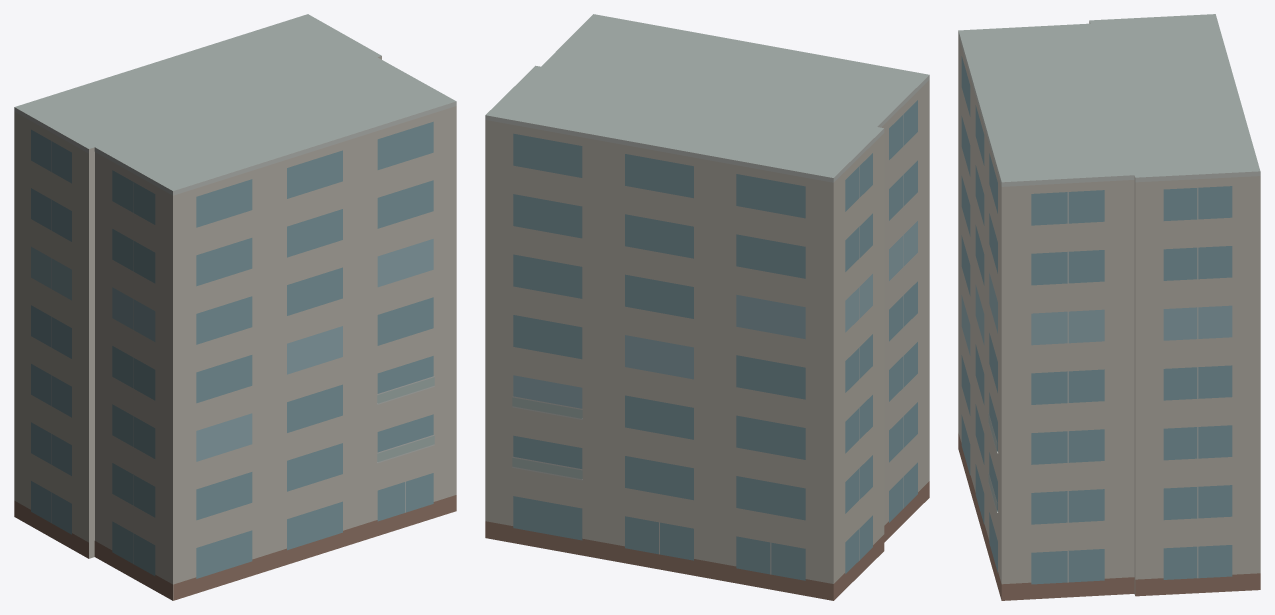
File: survey-upis-33015792.glb
3 renders of one model, left to right at view 1: azimuth 30°, elevation 25°; view 2: azimuth 150°, elevation 25°; view 3: azimuth 270°, elevation 25°, orthographic. The views are drawn at different scales.
Visible parts, largest first — view 1: survey-upis-33015792.tmp; view 2: survey-upis-33015792.tmp; view 3: survey-upis-33015792.tmp.
Boxes of the visible parts, x1,y1,x2,y2 form: survey-upis-33015792.tmp: [14, 14, 456, 600]; survey-upis-33015792.tmp: [485, 14, 929, 600]; survey-upis-33015792.tmp: [958, 14, 1260, 600].
Bounding box in the file's own units: 18.98 × 22 × 14.4.
